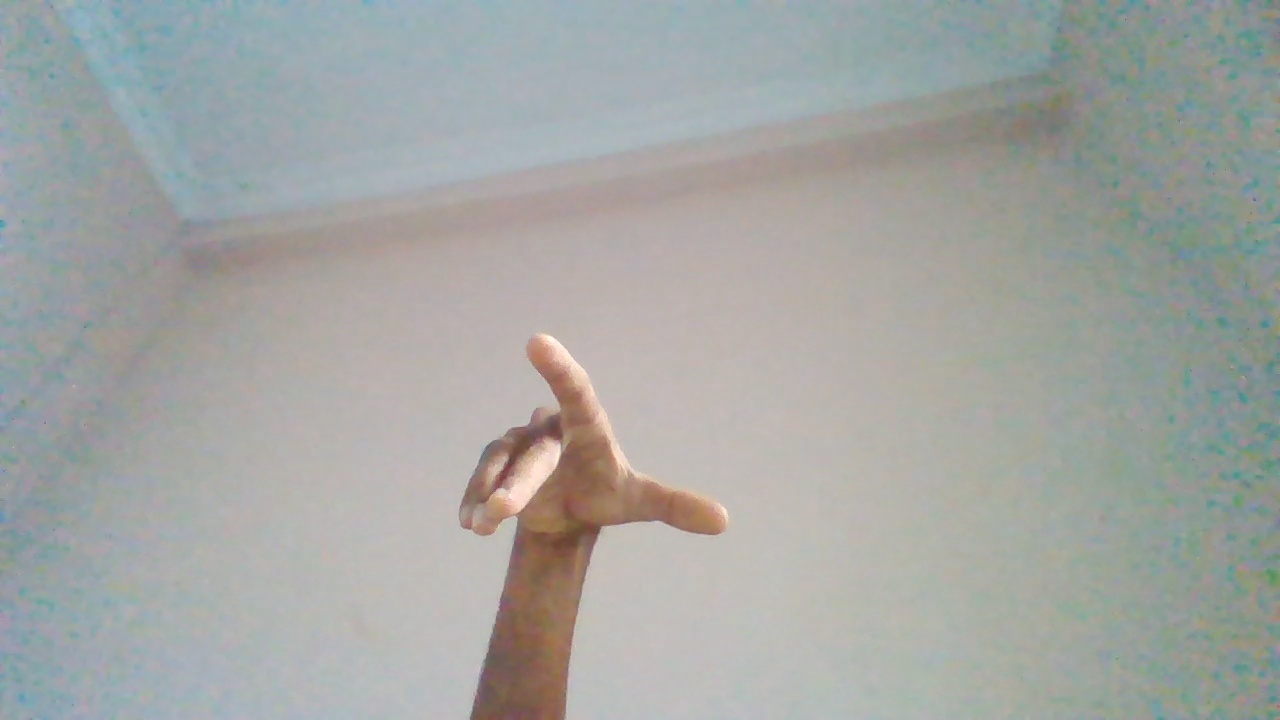ke: (459, 336, 721, 706)
